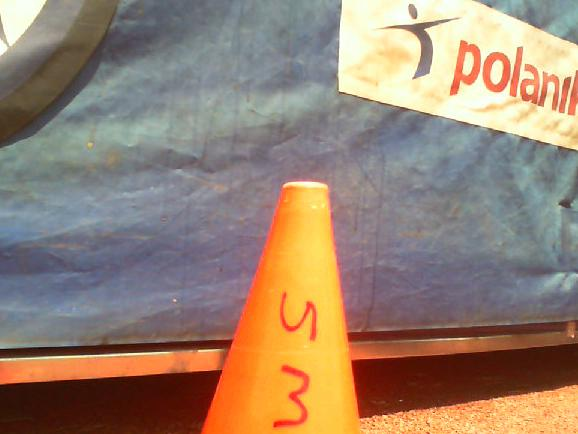0 cone: (192, 181, 365, 434)
